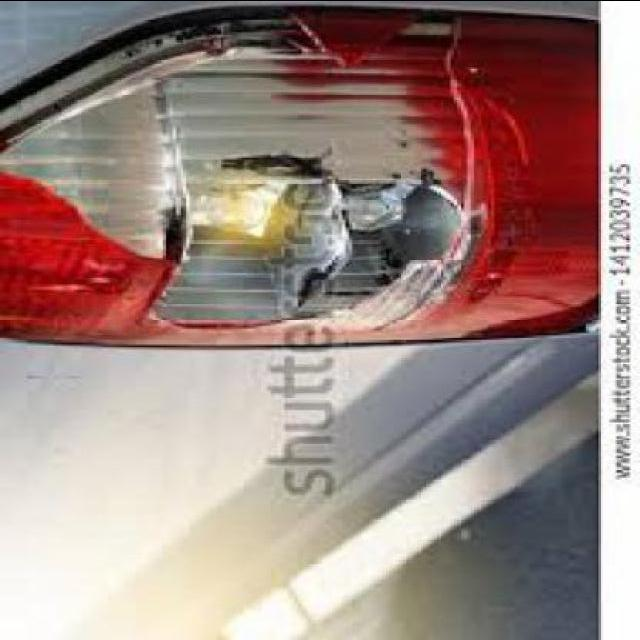Taillight-Damage: (0, 78, 583, 327)
